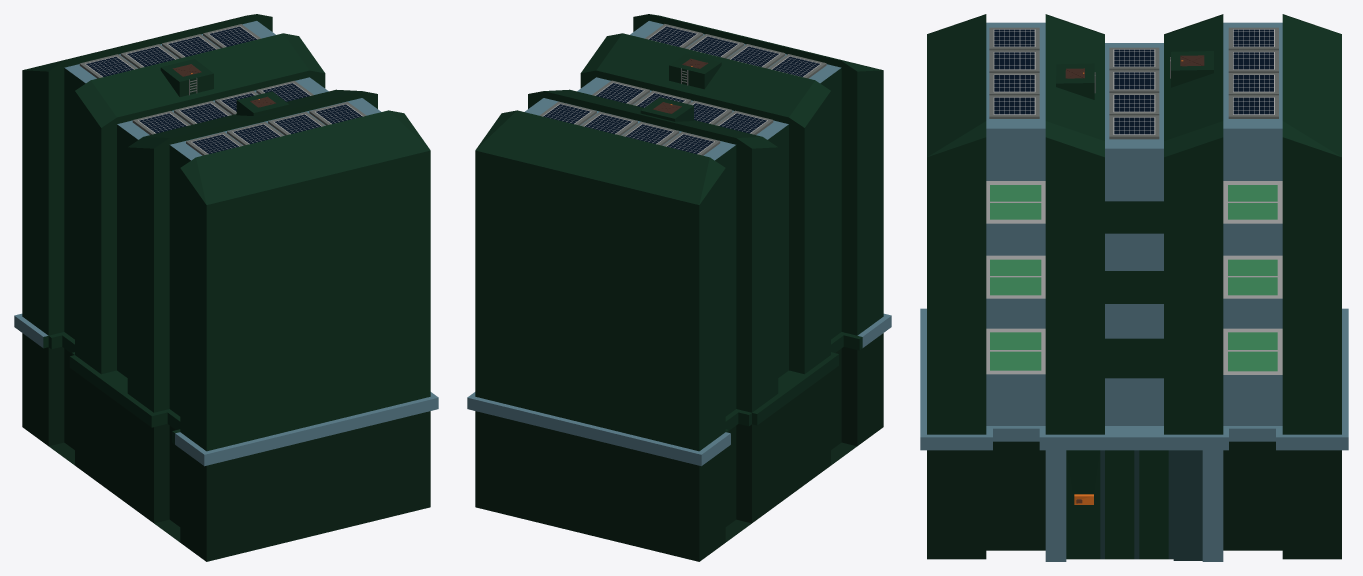
File: Building3.fbx
3 renders of one model, left to right at view 1: azimuth 30°, elevation 25°; view 2: azimuth 150°, elevation 25°; view 3: azimuth 270°, elevation 25°, orthographic. The views are drawn at different scales.
Parts seen in each view (by area): view 1: Cube.011; view 2: Cube.011; view 3: Cube.011.
Part boxes in pixels (left/top/right/bottom): Cube.011: left=14, top=14, right=438, bottom=561; Cube.011: left=467, top=14, right=891, bottom=561; Cube.011: left=920, top=14, right=1348, bottom=561.
Bounding box in the file's own units: 458 × 714 × 644.
